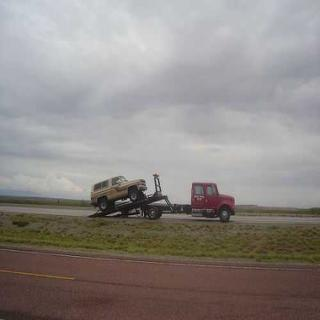Towing_truck: (88, 172, 236, 222)
